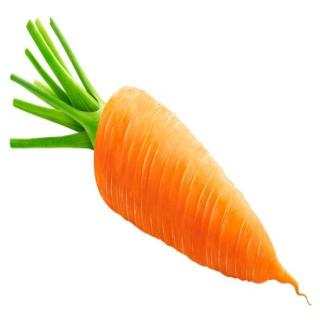carrot: (85, 82, 305, 308)
